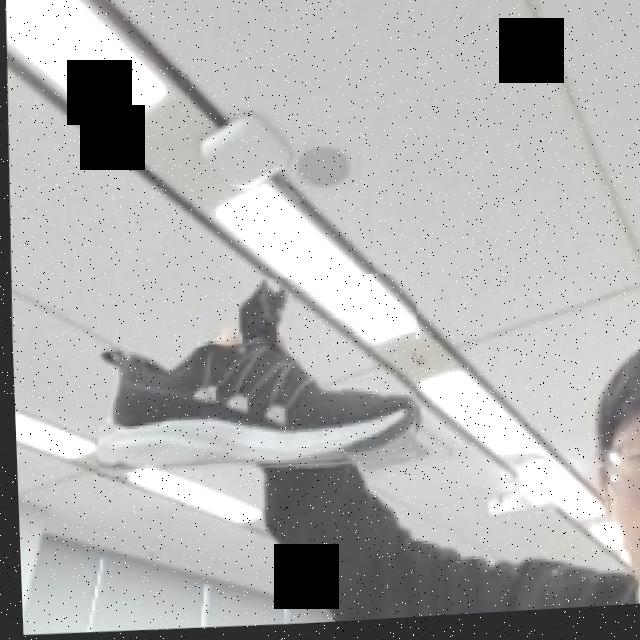shoe: (89, 271, 420, 484)
